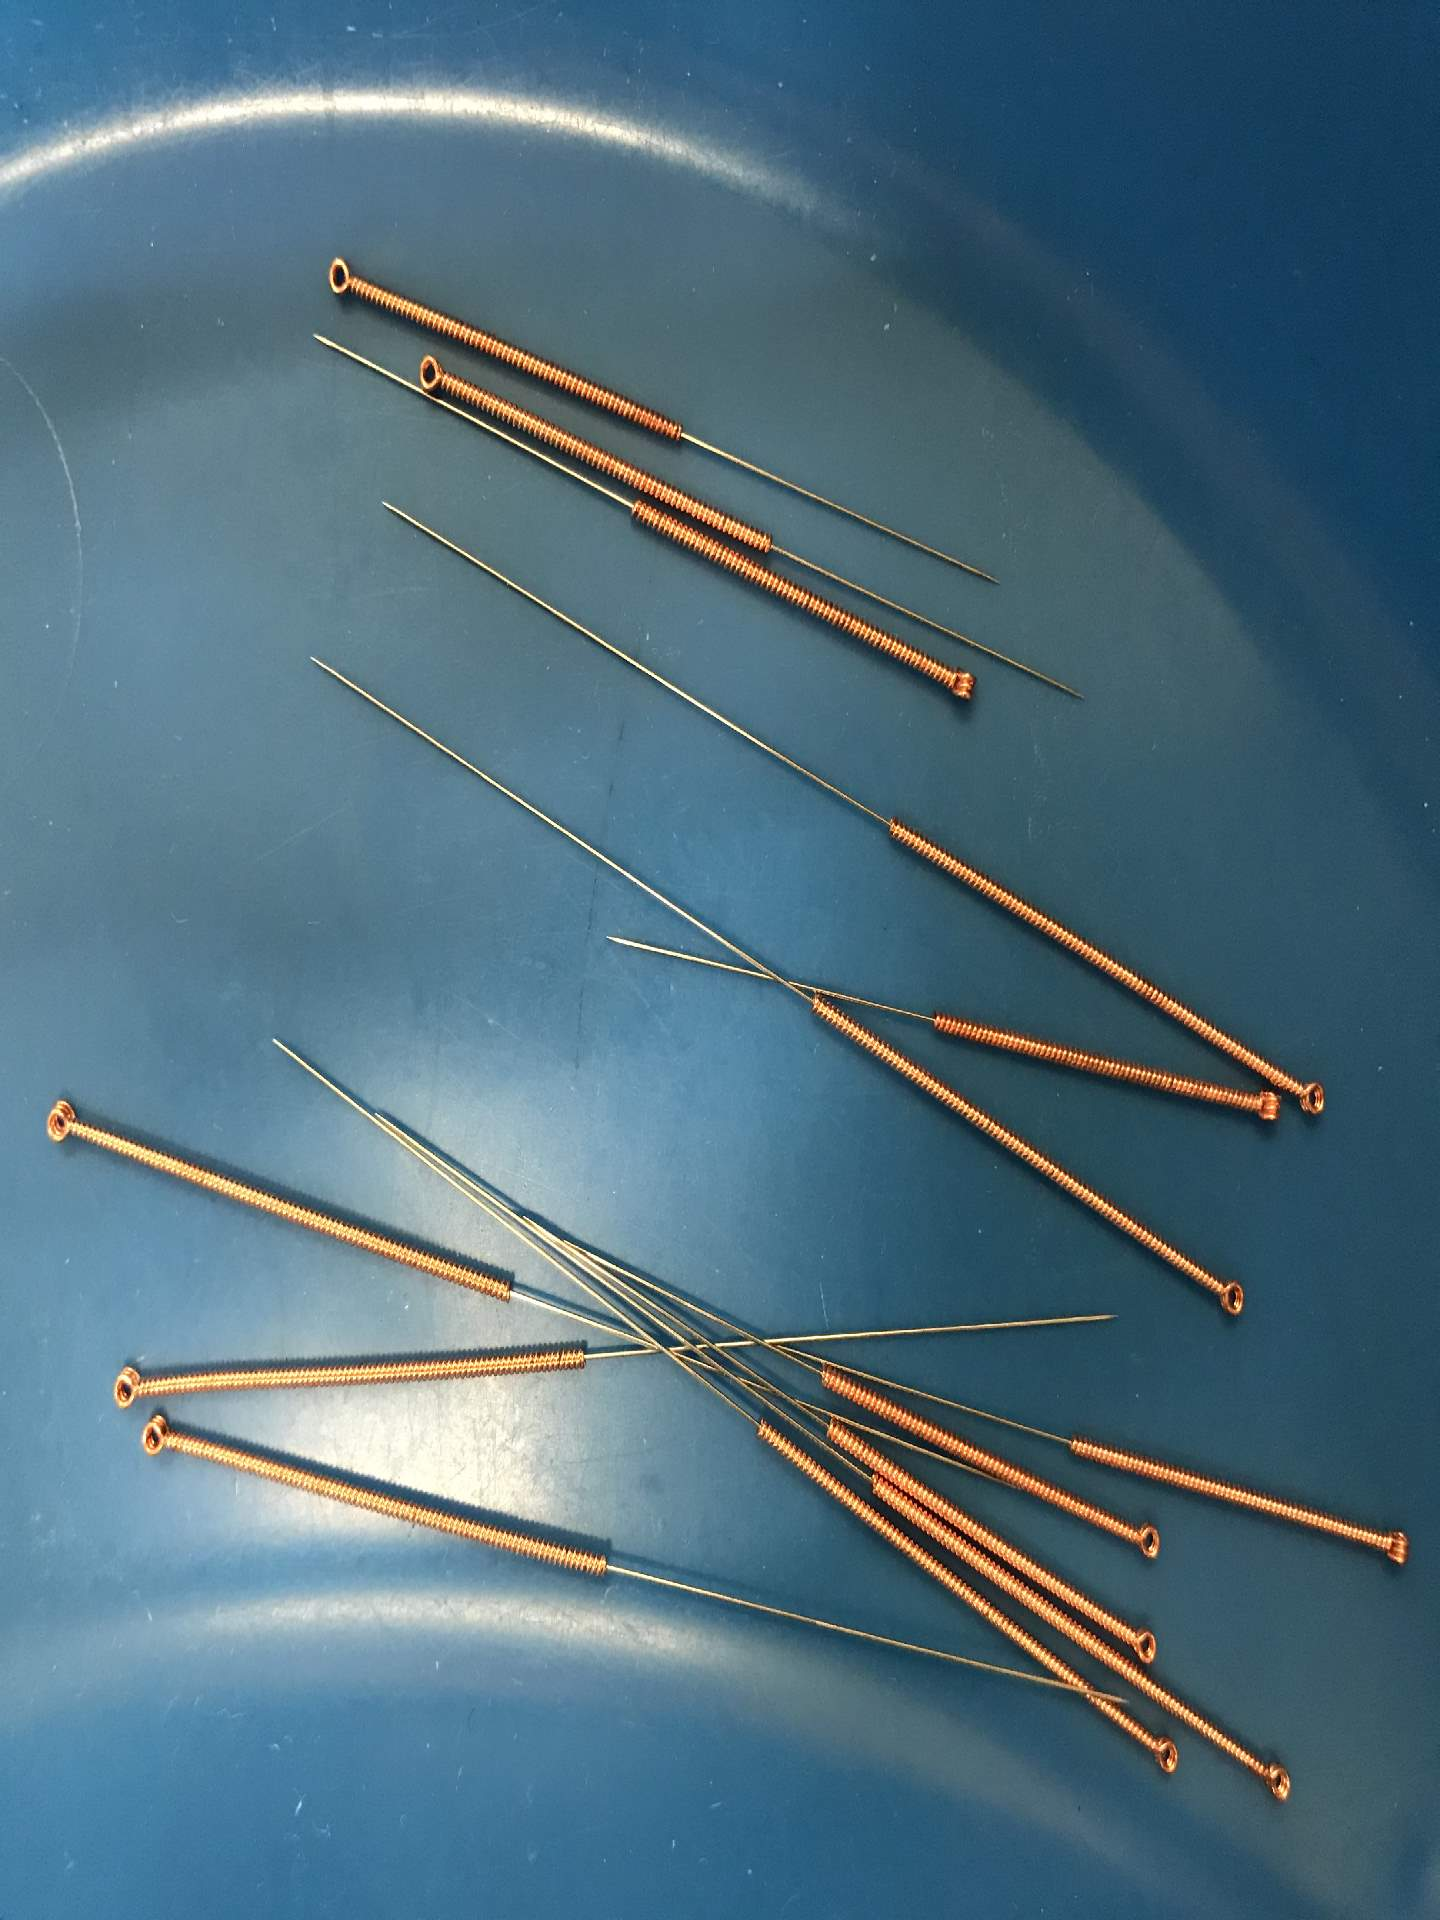needle: (29, 1084, 94, 1161), (1195, 1262, 1263, 1330), (307, 239, 371, 311), (923, 655, 992, 714), (1128, 1725, 1193, 1787), (1363, 1513, 1423, 1580), (1245, 1752, 1307, 1816), (1113, 1510, 1177, 1569), (402, 348, 463, 408), (127, 1407, 188, 1466), (1284, 1064, 1339, 1129), (98, 1358, 156, 1411), (1234, 1082, 1289, 1135), (1122, 1613, 1168, 1671)
